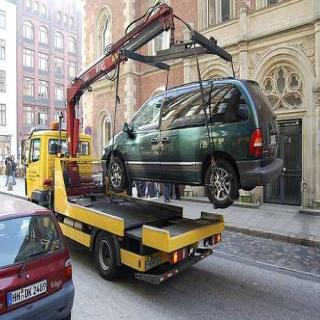Towing_truck: (22, 2, 234, 286), (100, 76, 284, 209)
